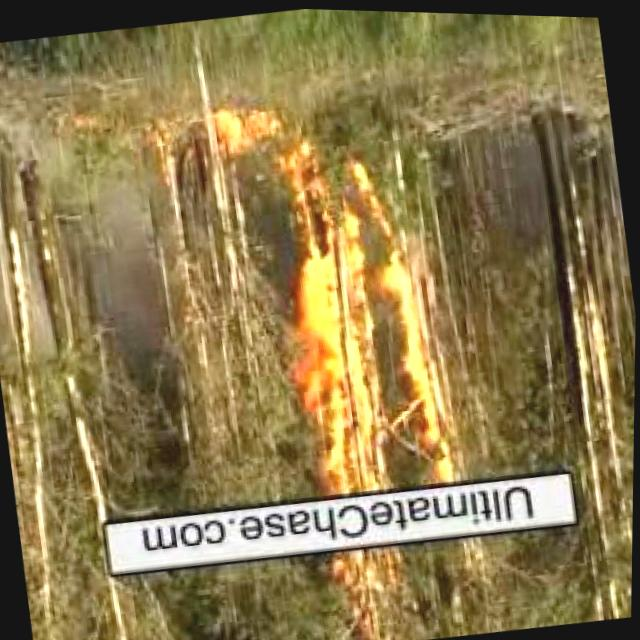helmet: (243, 143, 460, 501), (210, 95, 321, 158), (337, 543, 398, 631)
